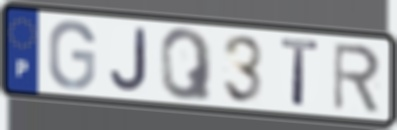3: (221, 34, 265, 105)
G: (46, 18, 98, 92)
J: (108, 26, 150, 94)
Q: (158, 26, 215, 103)
R: (331, 41, 383, 115)
T: (279, 36, 322, 110)
